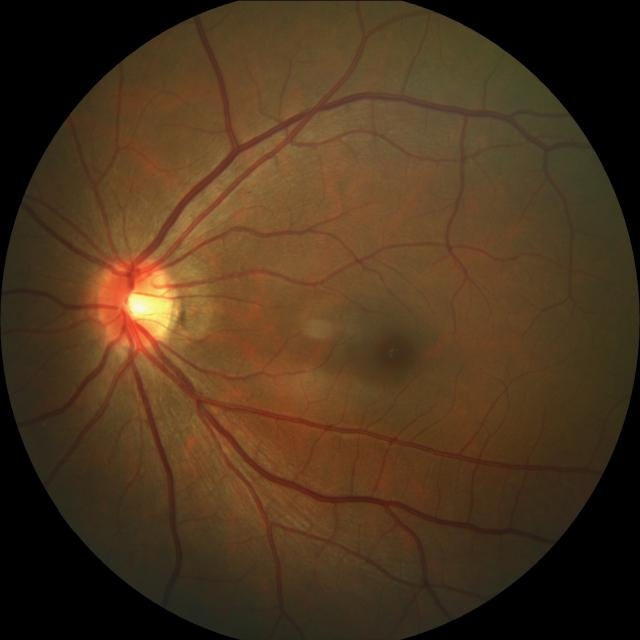OC: (123, 282, 163, 322)
OD: (96, 256, 176, 349)
